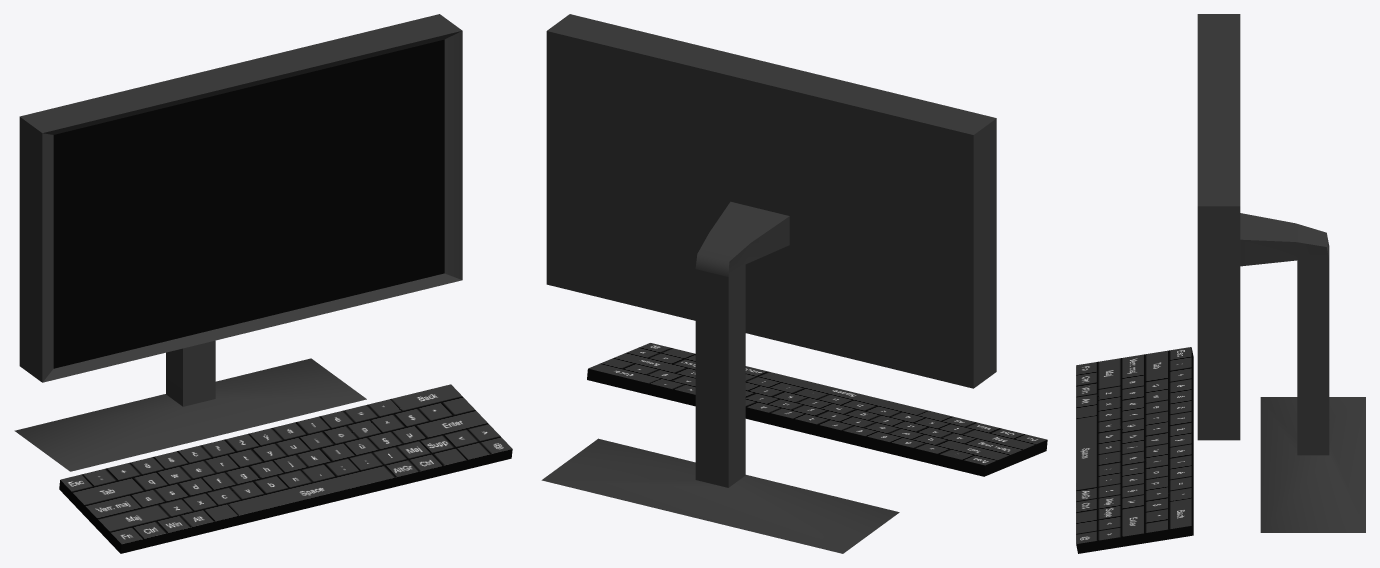
File: Keyboard and Monitor.fbx
3 renders of one model, left to right at view 1: azimuth 30°, elevation 25°; view 2: azimuth 150°, elevation 25°; view 3: azimuth 270°, elevation 25°, orthographic. The views are drawn at different scales.
Visible parts, largest first — view 1: Monitor, Keyboard; view 2: Monitor, Keyboard; view 3: Monitor, Keyboard.
Boxes of the visible parts, <box> form: Monitor: <box>14,14,462,471</box>; Keyboard: <box>59,384,512,553</box>; Monitor: <box>541,14,996,553</box>; Keyboard: <box>587,343,1047,476</box>; Monitor: <box>1197,14,1365,532</box>; Keyboard: <box>1076,347,1193,553</box>.
Size of the model in its own units: 2.43 by 2.09 by 1.55.
